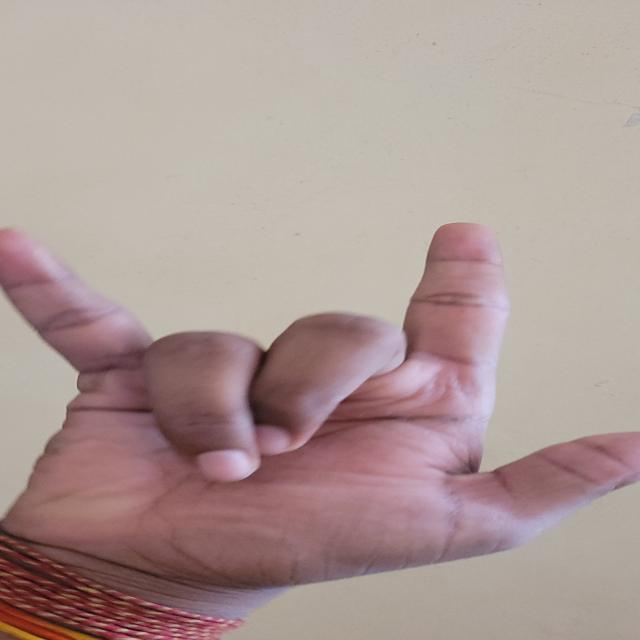i like you: (1, 176, 640, 564)
